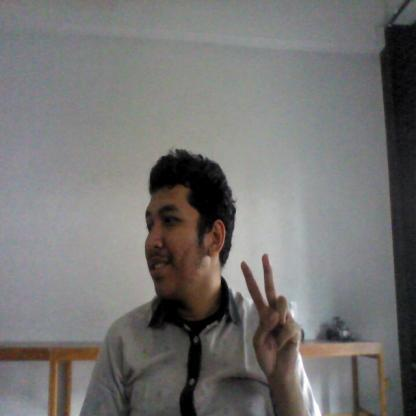V: (239, 252, 304, 389)
